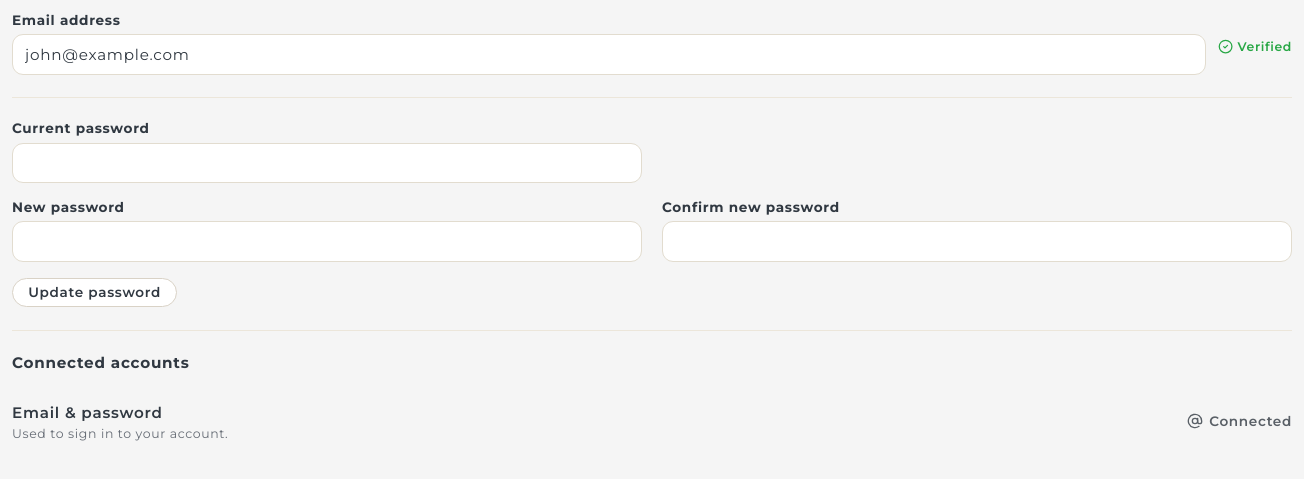
Account & Security — change password › blocks the change when the new passwords do not match
The image size is (1304, 479).
Type "oldpass" into the password field labelled "Current password". click: (327, 163)
box: [12,143,642,183]
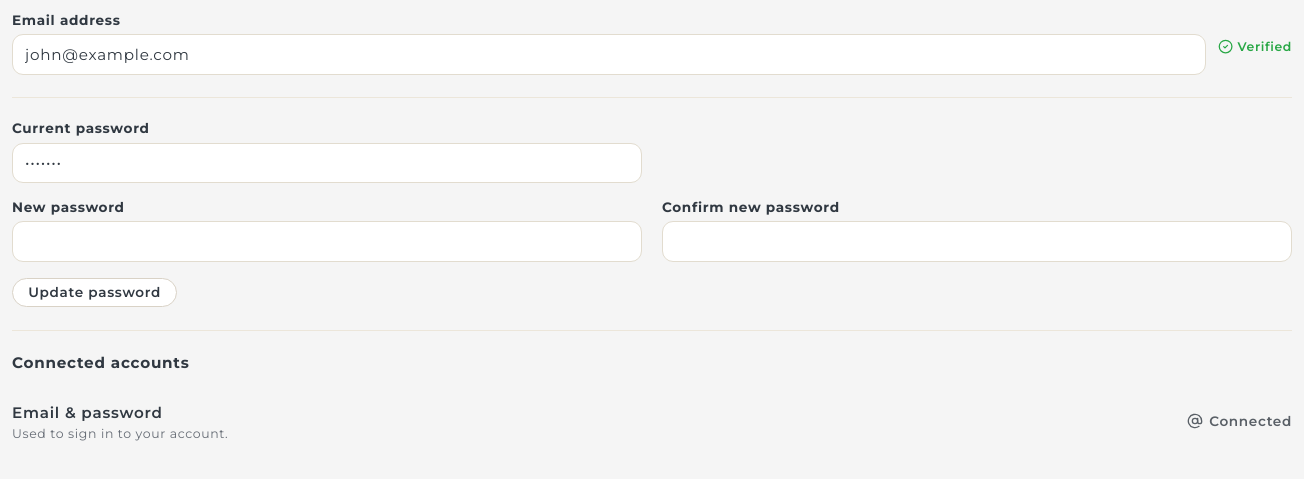
Type "newpass1" into the password field labelled "New password". click: (327, 241)
box: [12,221,642,262]
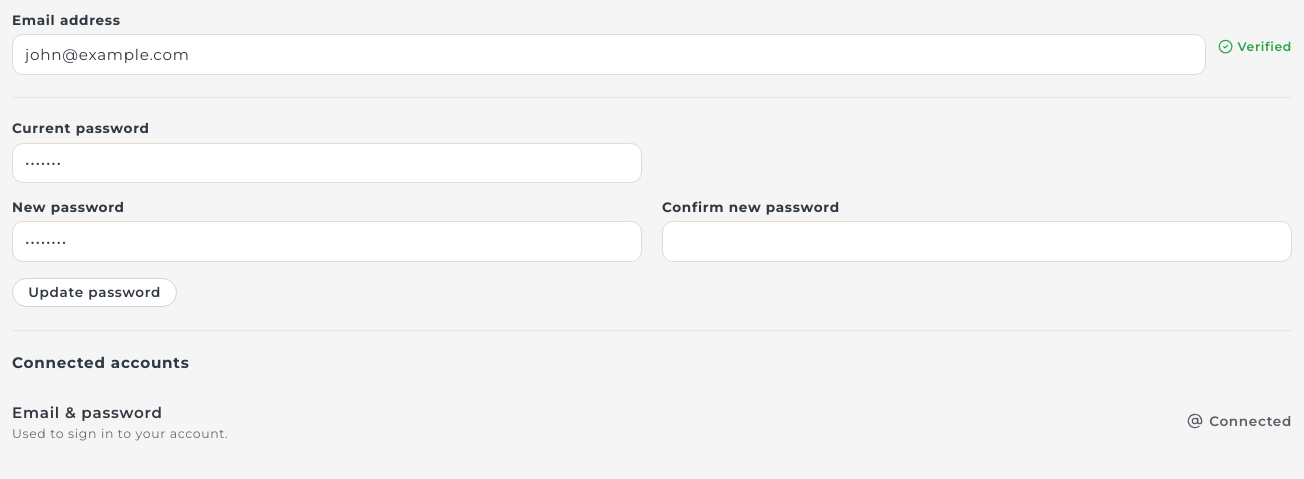
Type "different" into the password field labelled "Confirm new password". click: (977, 241)
box: [662,221,1292,262]
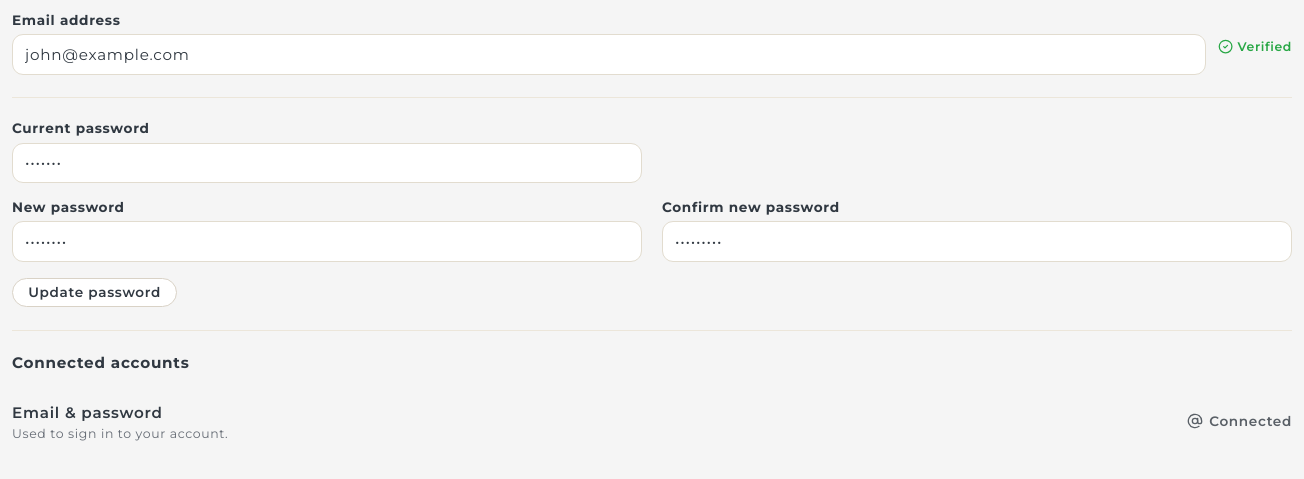
Click the button "Update password". click: (95, 292)
box: [12,278,177,308]
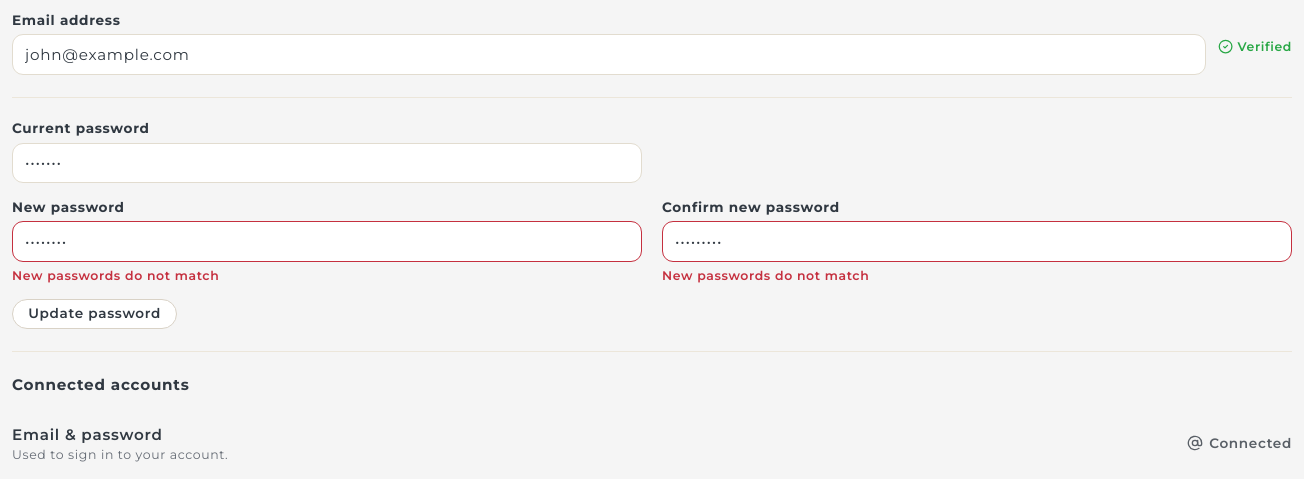
Expected: the 1st text "New passwords do not match" is shown, [12,268,219,283]
